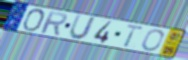4: (91, 20, 114, 45)
O: (21, 8, 47, 32), (141, 29, 165, 52)
R: (39, 10, 68, 37)
T: (122, 24, 146, 48)
U: (67, 14, 98, 42)
